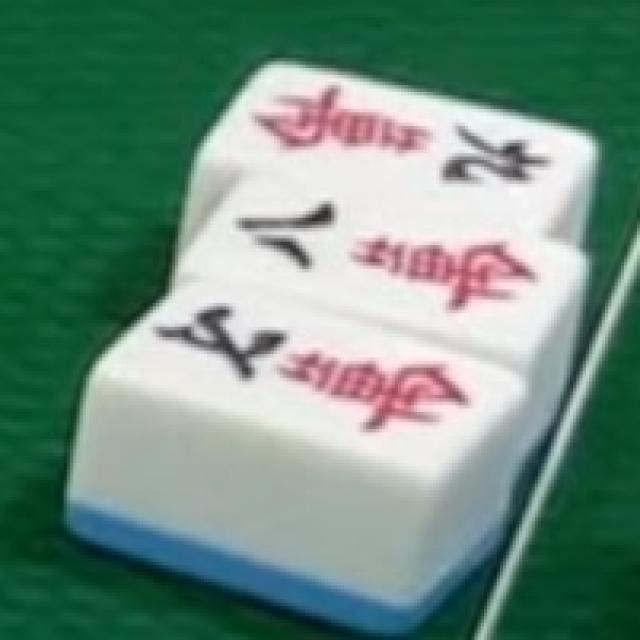m7: (154, 288, 484, 445)
m8: (235, 196, 541, 318)
m9: (246, 74, 561, 198)
